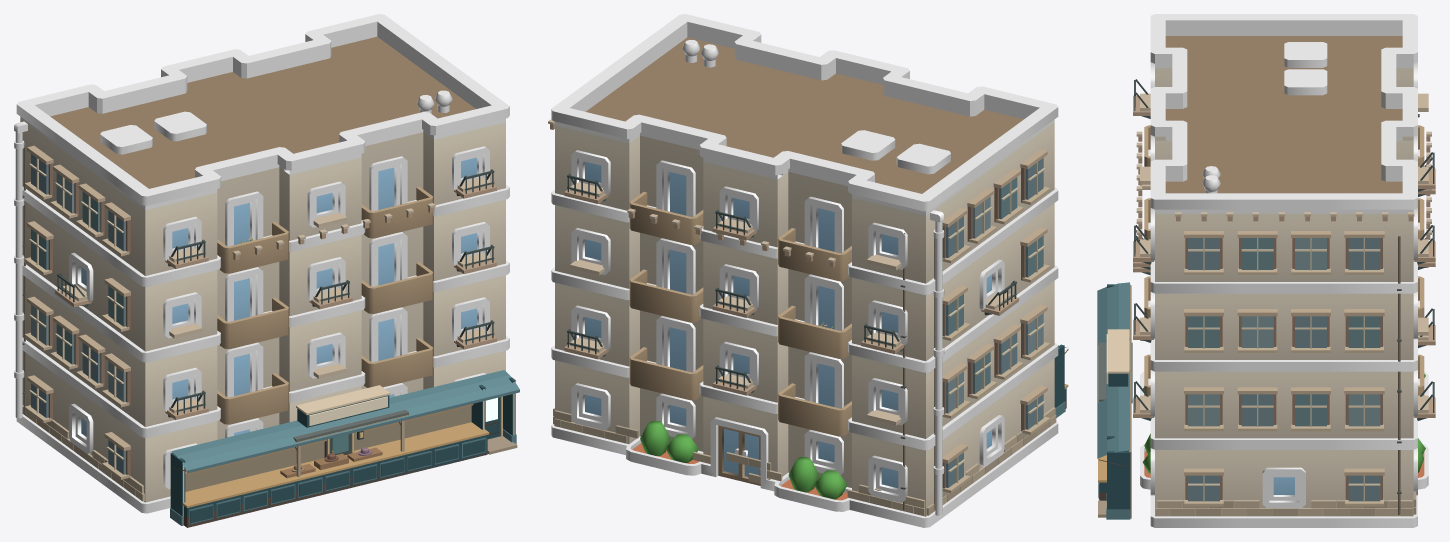
Rendered from shop-j-cream.glb.
3 renders of one model, left to right at view 1: azimuth 30°, elevation 25°; view 2: azimuth 150°, elevation 25°; view 3: azimuth 270°, elevation 25°, orthographic. The views are drawn at different scales.
Visible parts, largest first — view 1: building-j, BOUTIQUE_Joinery, Masonry_and_stairwell_windows, Upper_floor_balconies_and_carved_cornice, Residential_Portico; view 2: building-j, Masonry_and_stairwell_windows, Upper_floor_balconies_and_carved_cornice, BOUTIQUE_Joinery; view 3: building-j, Masonry_and_stairwell_windows, BOUTIQUE_Joinery, Upper_floor_balconies_and_carved_cornice, Residential_Portico.
Boxes of the visible parts, <box> form: building-j: <box>14,14,509,513</box>; BOUTIQUE_Joinery: <box>170,370,519,527</box>; Masonry_and_stairwell_windows: <box>22,144,144,501</box>; Upper_floor_balconies_and_carved_cornice: <box>55,169,496,419</box>; Residential_Portico: <box>293,410,408,477</box>; building-j: <box>551,14,1058,527</box>; Masonry_and_stairwell_windows: <box>553,149,1056,515</box>; Upper_floor_balconies_and_carved_cornice: <box>548,119,1018,425</box>; BOUTIQUE_Joinery: <box>1054,344,1068,417</box>; building-j: <box>1140,14,1428,527</box>; Masonry_and_stairwell_windows: <box>1156,114,1419,516</box>; BOUTIQUE_Joinery: <box>1097,282,1131,519</box>; Upper_floor_balconies_and_carved_cornice: <box>1133,79,1435,420</box>; Residential_Portico: <box>1098,342,1132,403</box>.
Size of the model in its own units: 2.16 by 1.69 by 1.57.
57 materials, 1 textured.
